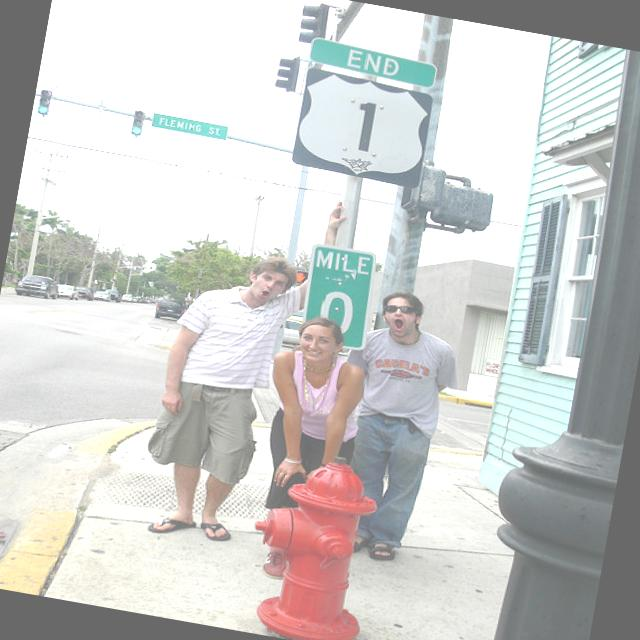Vehicle: (14, 270, 62, 302), (152, 296, 185, 322), (281, 319, 303, 345), (54, 283, 80, 300), (74, 286, 95, 302), (102, 288, 122, 302), (93, 290, 112, 303), (121, 293, 132, 303), (146, 298, 156, 304), (137, 298, 146, 302)
